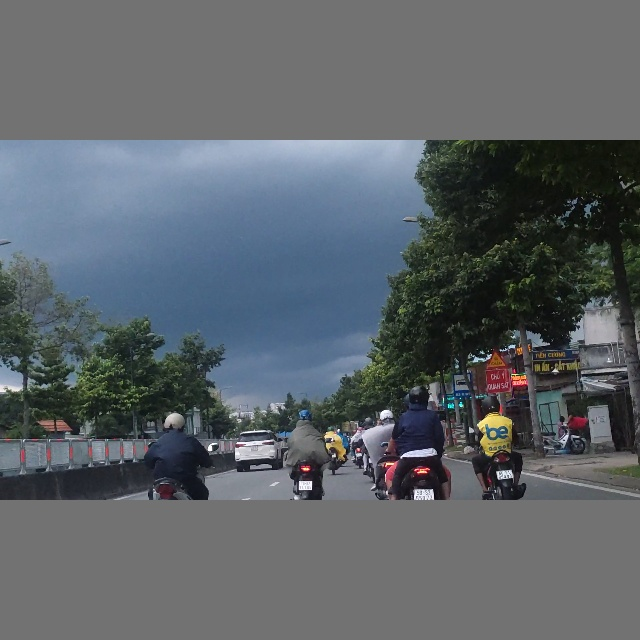I.434a: (452, 372, 473, 399)
W.245a: (487, 350, 507, 369)
